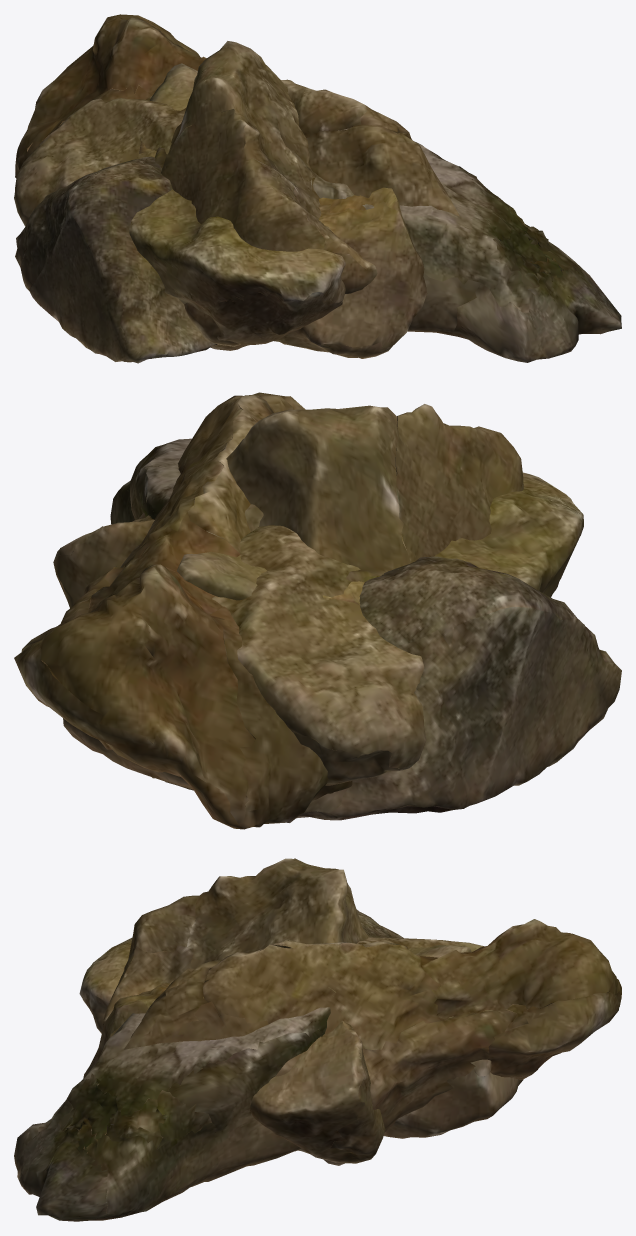
The model's file is rock_moss_set.glb.
3 views of the same model, one above another, from view 1: azimuth 30°, elevation 25°; view 2: azimuth 150°, elevation 25°; view 3: azimuth 270°, elevation 25° (orthographic). The views are drawn at different scales.
Parts seen in each view (by area): view 1: mrock_5, mrock_2, mrock_4, mrock_3, mrock_1, mrock_6; view 2: mrock_1, mrock_3, mrock_5, mrock_4, mrock_2, mrock_6; view 3: mrock_1, mrock_2, mrock_4, mrock_5, mrock_6, mrock_3.
Boxes of the visible parts, left/top/right/bottom form: mrock_5: left=14, top=95, right=345, bottom=350; mrock_2: left=244, top=128, right=621, bottom=362; mrock_4: left=155, top=41, right=377, bottom=346; mrock_3: left=15, top=156, right=219, bottom=363; mrock_1: left=15, top=14, right=459, bottom=216; mrock_6: left=137, top=63, right=427, bottom=358; mrock_1: left=14, top=392, right=359, bottom=829; mrock_3: left=155, top=540, right=621, bottom=820; mrock_5: left=63, top=472, right=583, bottom=806; mrock_4: left=53, top=404, right=523, bottom=608; mrock_2: left=110, top=438, right=263, bottom=539; mrock_6: left=152, top=535, right=406, bottom=778; mrock_1: left=106, top=919, right=621, bottom=1165; mrock_2: left=14, top=1007, right=330, bottom=1221; mrock_4: left=103, top=858, right=385, bottom=1163; mrock_5: left=79, top=937, right=529, bottom=1138; mrock_6: left=83, top=945, right=471, bottom=1077; mrock_3: left=356, top=909, right=403, bottom=938.
Size of the model in its own units: 3.16 by 1.77 by 3.94.
Materials: 6 (6 with a texture image).
